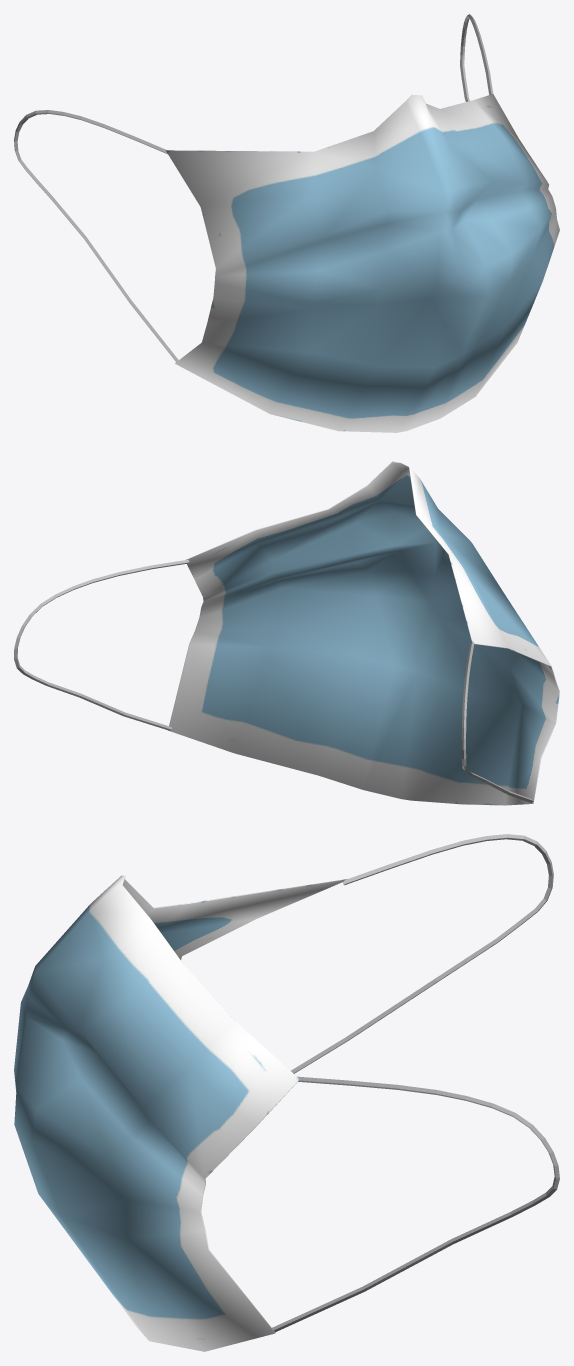
The model's file is mask.glb.
3 renders of one model, top to bottom at view 1: azimuth 30°, elevation 25°; view 2: azimuth 150°, elevation 25°; view 3: azimuth 270°, elevation 25°, orthographic. The views are drawn at different scales.
Visible parts, largest first — view 1: chirurgical_disposable_mask_NormalMap.004; view 2: chirurgical_disposable_mask_NormalMap.004; view 3: chirurgical_disposable_mask_NormalMap.004.
Part boxes in pixels (<box>): chirurgical_disposable_mask_NormalMap.004: <box>14,14,559,432</box>; chirurgical_disposable_mask_NormalMap.004: <box>14,461,559,805</box>; chirurgical_disposable_mask_NormalMap.004: <box>14,834,559,1351</box>.
Bounding box in the file's own units: 0.6077 × 0.4323 × 0.4941.
Materials: 1 (1 with a texture image).
